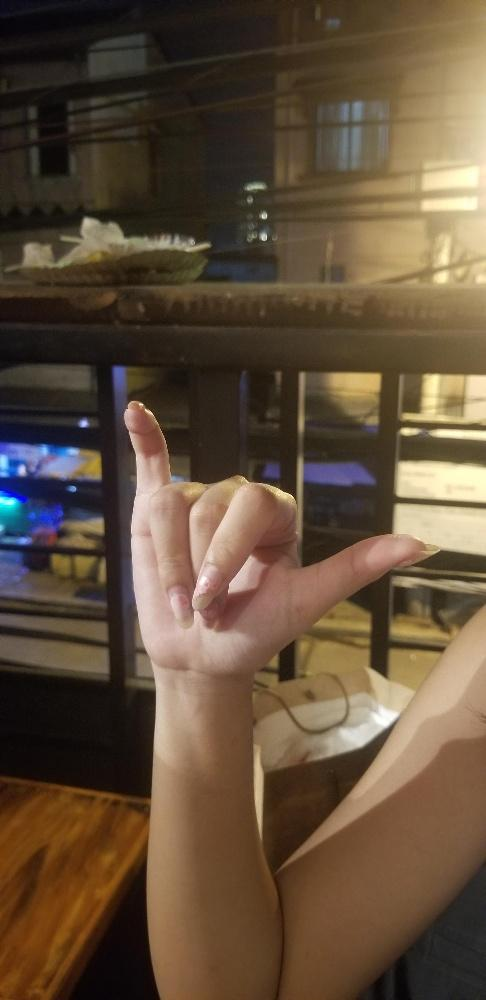y: (119, 394, 440, 688)
